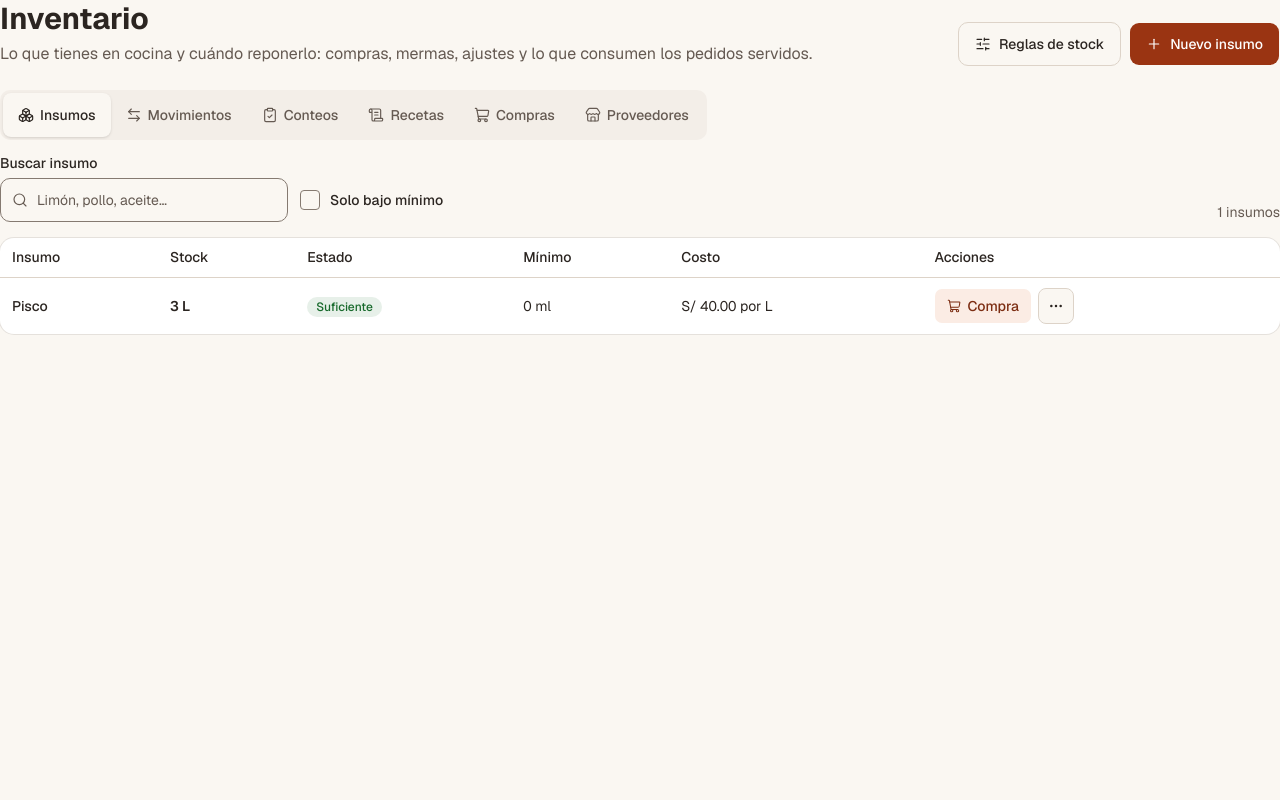
it: compras y mermas › una merma que pasa el monto avisa antes y, con el 202, dice que queda por aprobar
Click the button named "Más acciones de Pisco" at coordinates (1056, 306), box 1038,288 -> 1074,324
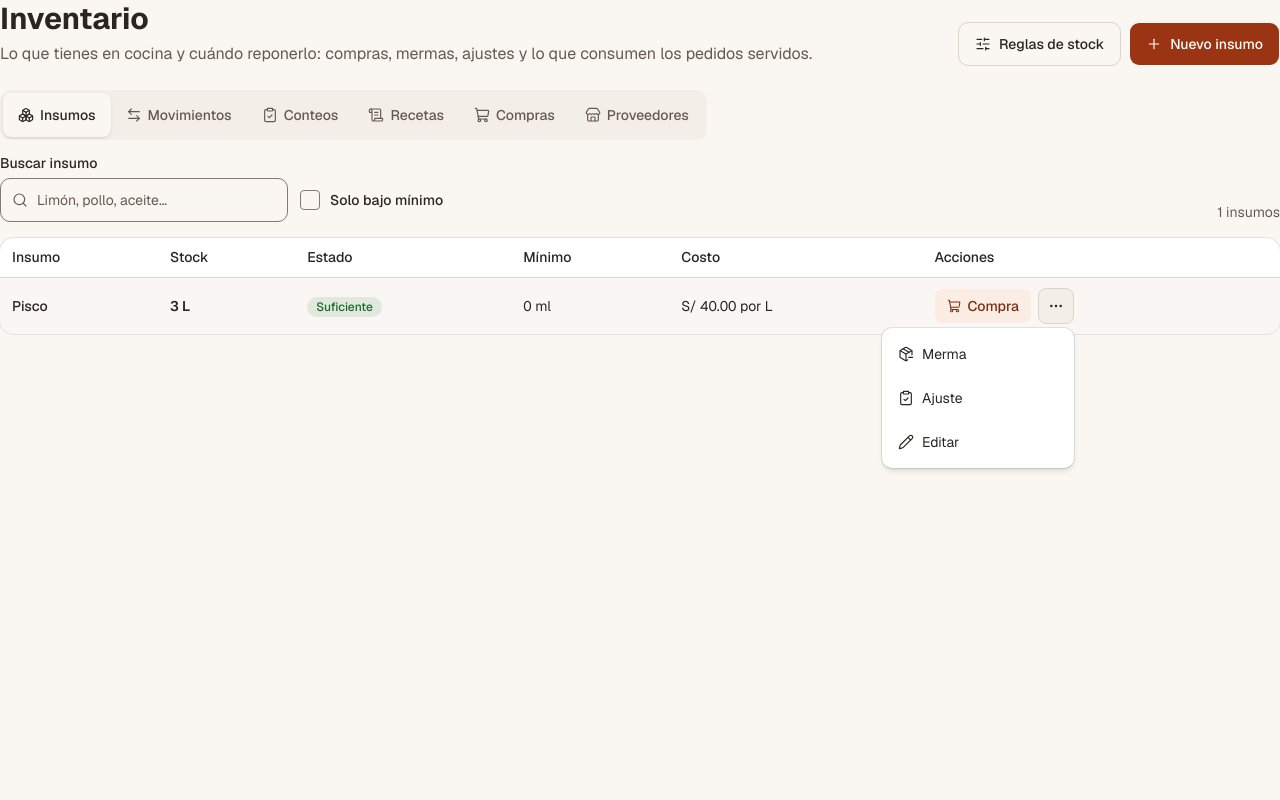
Click the menu item "Merma" at coordinates (932, 354), box 898,345 -> 966,363
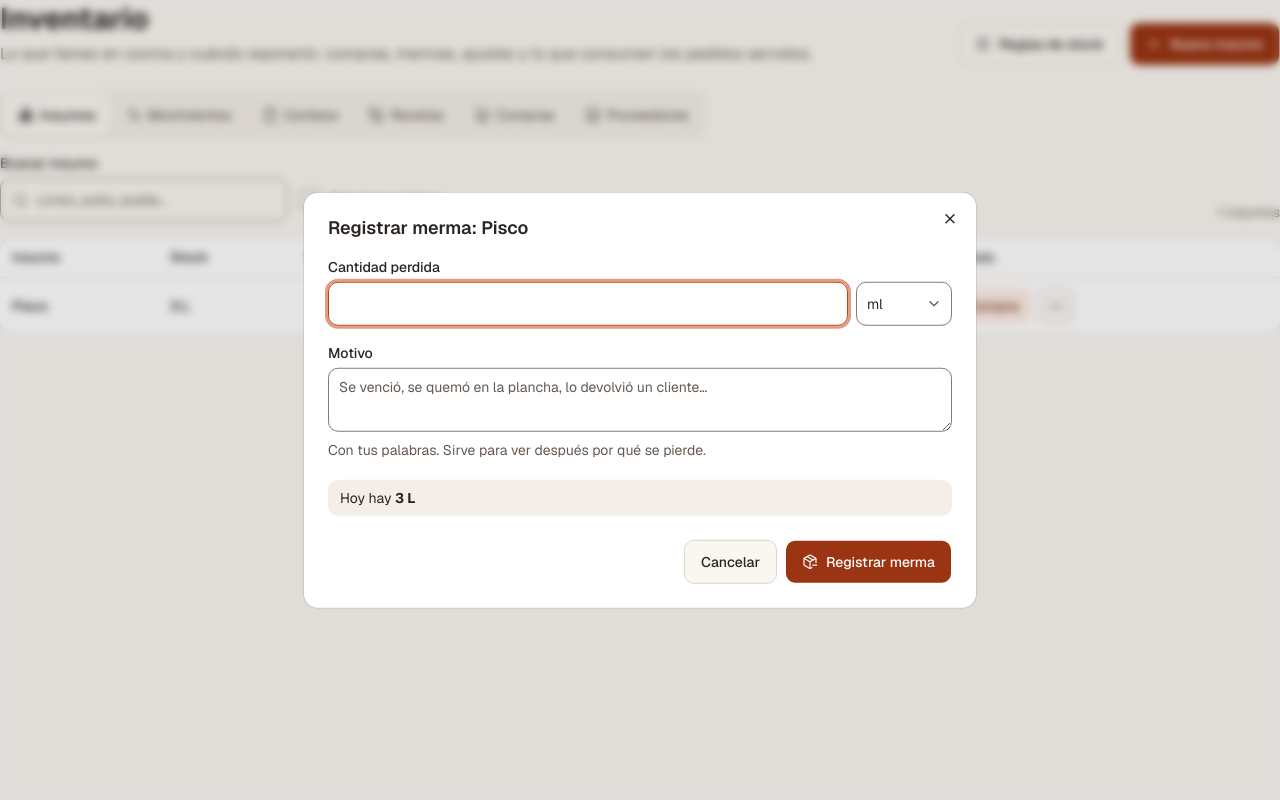
Type "1500" into the field labelled "Cantidad perdida" at coordinates (588, 303), box 328,281 -> 848,325
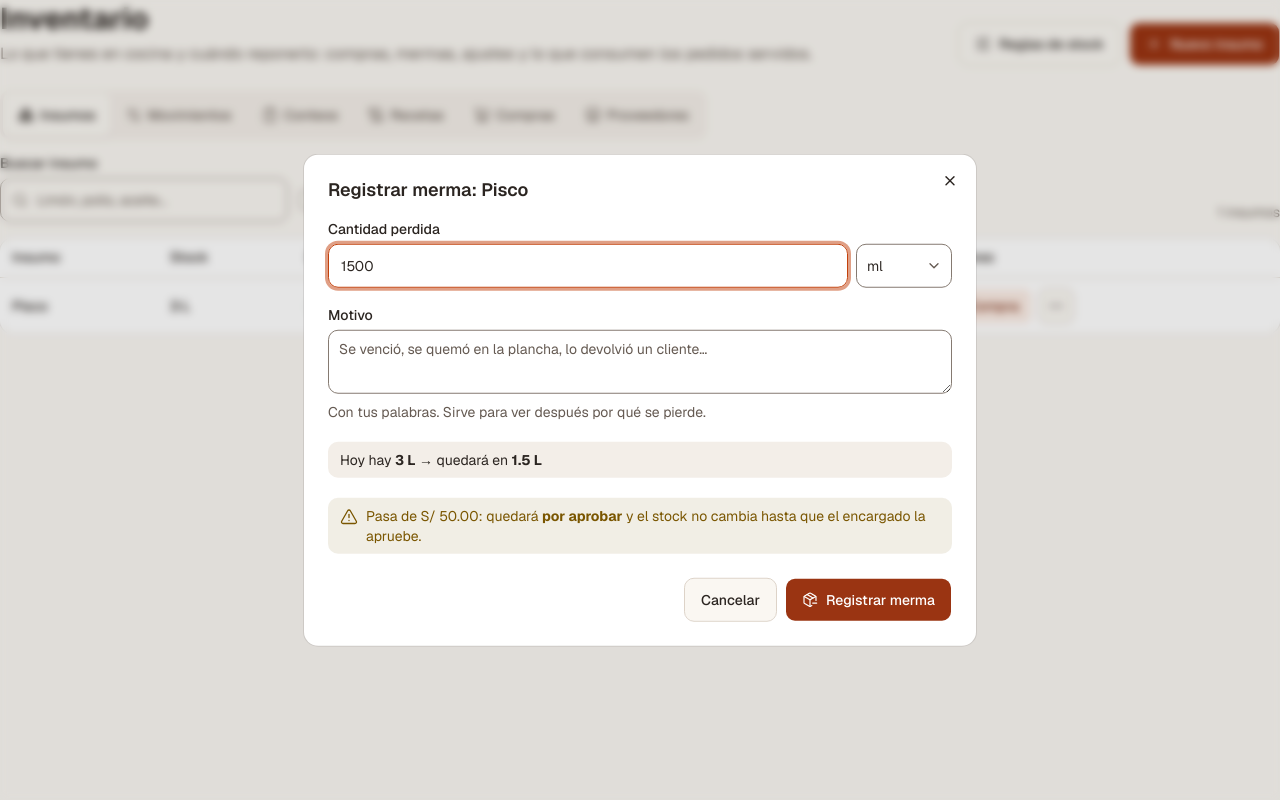
Expected: the message shows "quedará por aprobar", 328,497 -> 952,553
Type "Se rompieron dos botellas" into the text box labelled "Motivo" at coordinates (640, 361), box 328,329 -> 952,393
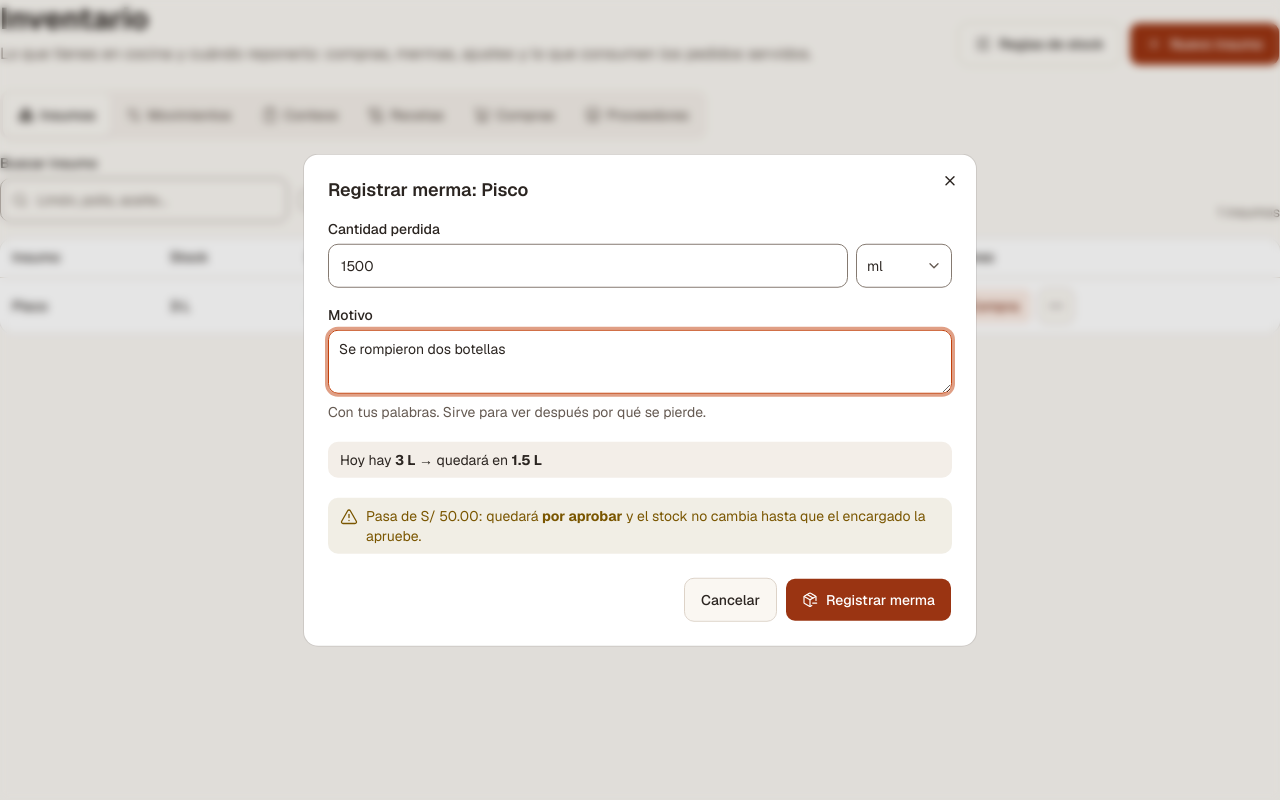
Click the button "Registrar merma" at coordinates (868, 599), box 785,577 -> 952,621
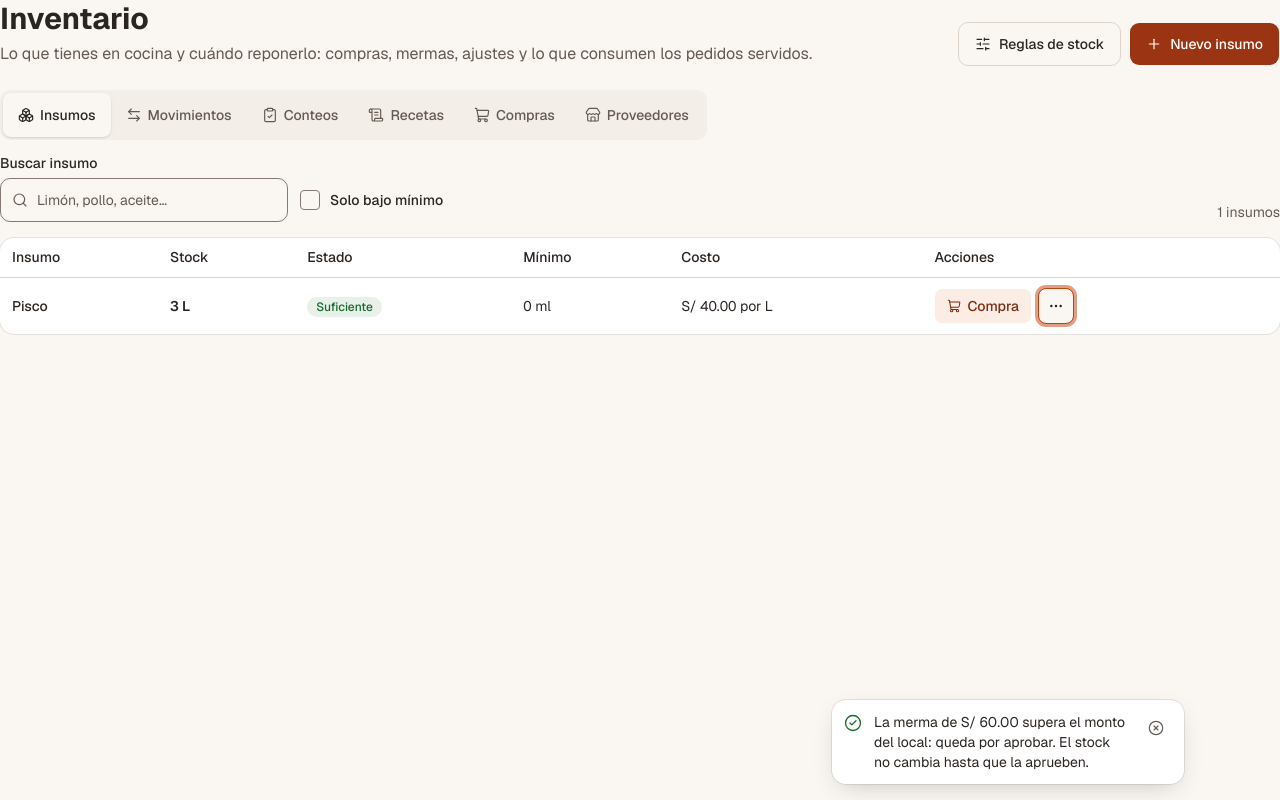
Expected: the text "supera el monto del local: queda por aprobar" is shown, 874,713 -> 1125,771
